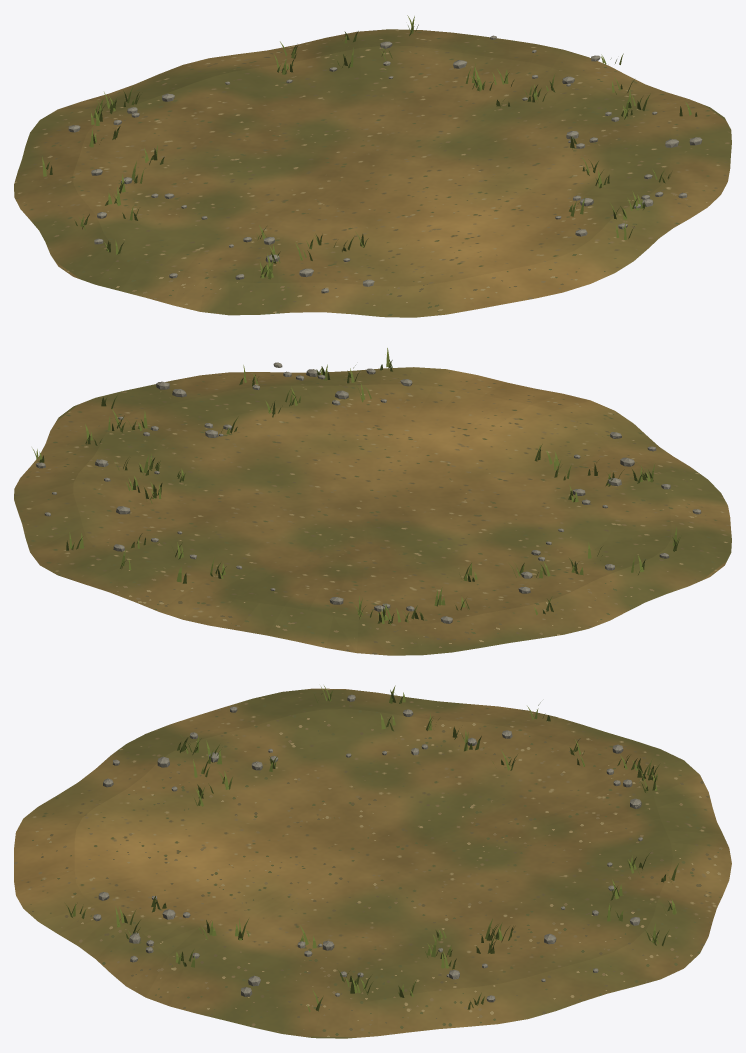
Rendered from RusticTent_Environment.obj.
3 views of the same model, one above another, from view 1: azimuth 30°, elevation 25°; view 2: azimuth 150°, elevation 25°; view 3: azimuth 270°, elevation 25° (orthographic). The views are drawn at different scales.
Parts seen in each view (by area): view 1: Ground, GrassTufts, ScatteredStones; view 2: Ground, GrassTufts, ScatteredStones; view 3: Ground, GrassTufts, ScatteredStones.
Boxes of the visible parts, x1,y1,x2,y2 form: Ground: (14,29,731,317); GrassTufts: (42,15,697,279); ScatteredStones: (68,35,702,293); Ground: (14,367,731,655); GrassTufts: (32,348,680,624); ScatteredStones: (36,362,701,623); Ground: (14,688,731,1038); GrassTufts: (65,685,678,1011); ScatteredStones: (93,694,642,1002).
Size of the model in its own units: 8.47 by 0.36 by 7.34.
3 materials, 3 textured.
